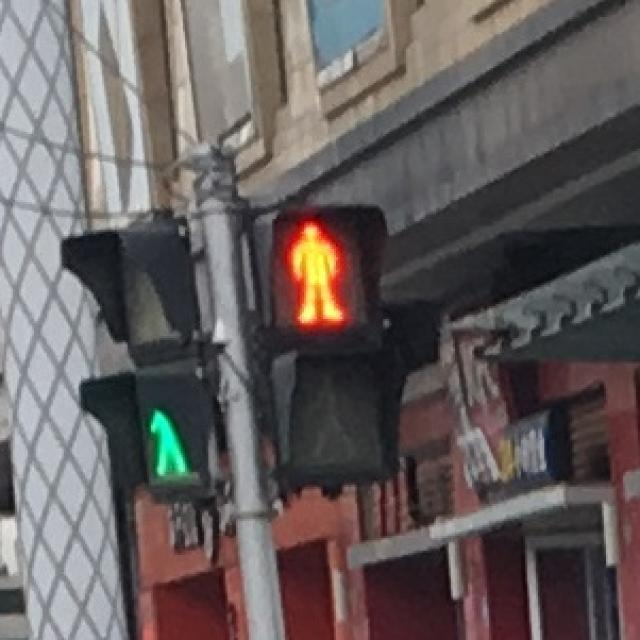red-crossing: (270, 215, 364, 334)
